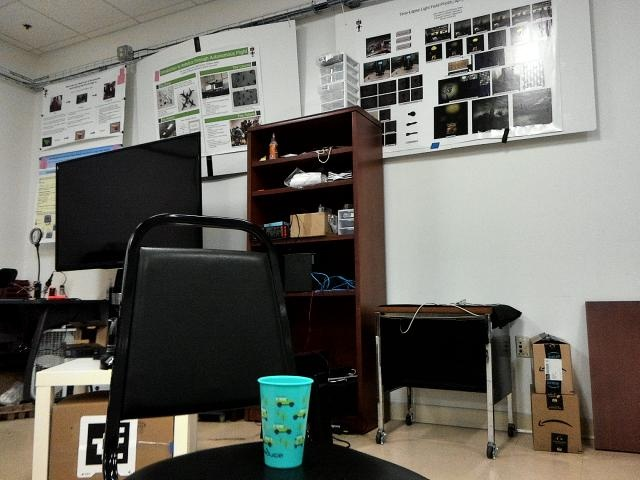coffee_cup: (254, 371, 318, 469)
